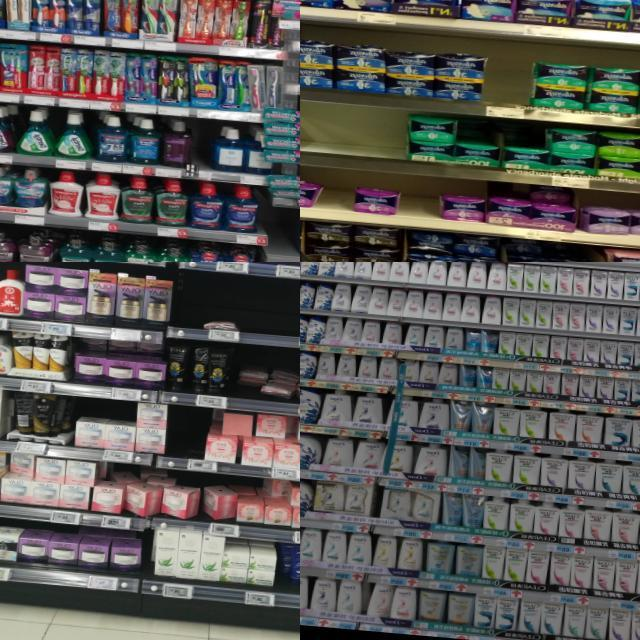Imprecise: (492, 182, 576, 235), (237, 362, 296, 406), (196, 484, 237, 520), (215, 408, 258, 438)
